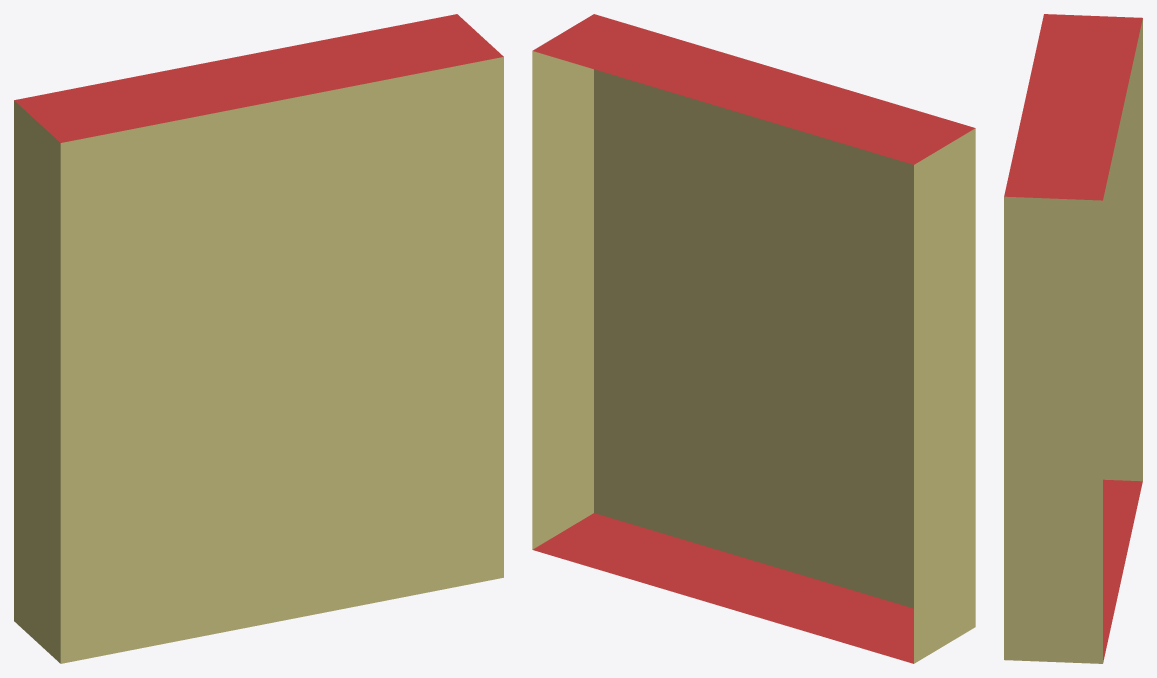
3 views of the same model, side by side, from view 1: azimuth 30°, elevation 25°; view 2: azimuth 150°, elevation 25°; view 3: azimuth 270°, elevation 25° (orthographic). The views are drawn at different scales.
Size of the model in its own units: 7.61 by 2.39 by 8.81.
